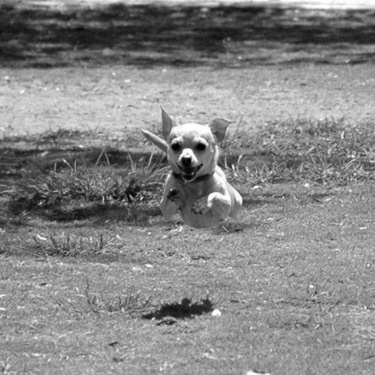dog: (127, 104, 248, 233)
